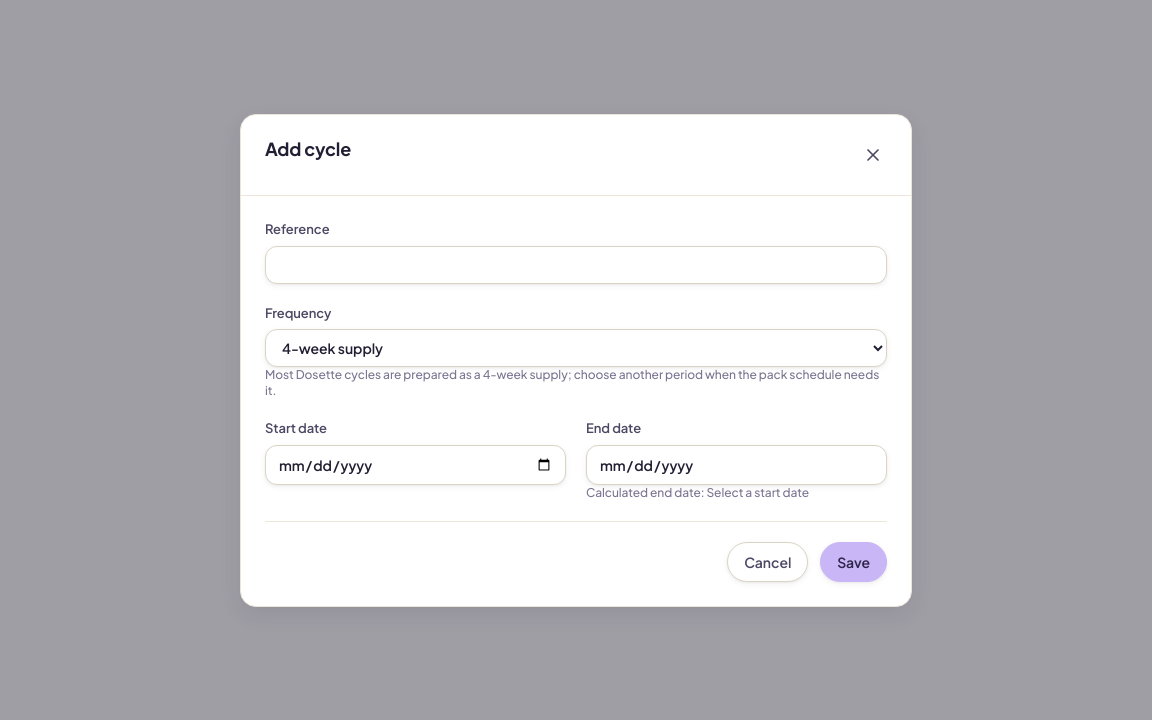
Test: DosetteCycleFormModal › renders backend field errors
The image size is (1152, 720).
Type "MDS-2026-W26" into the field labelled "Reference".
click(576, 264); type("MDS-2026-W26")  # box 265,245 -> 887,283
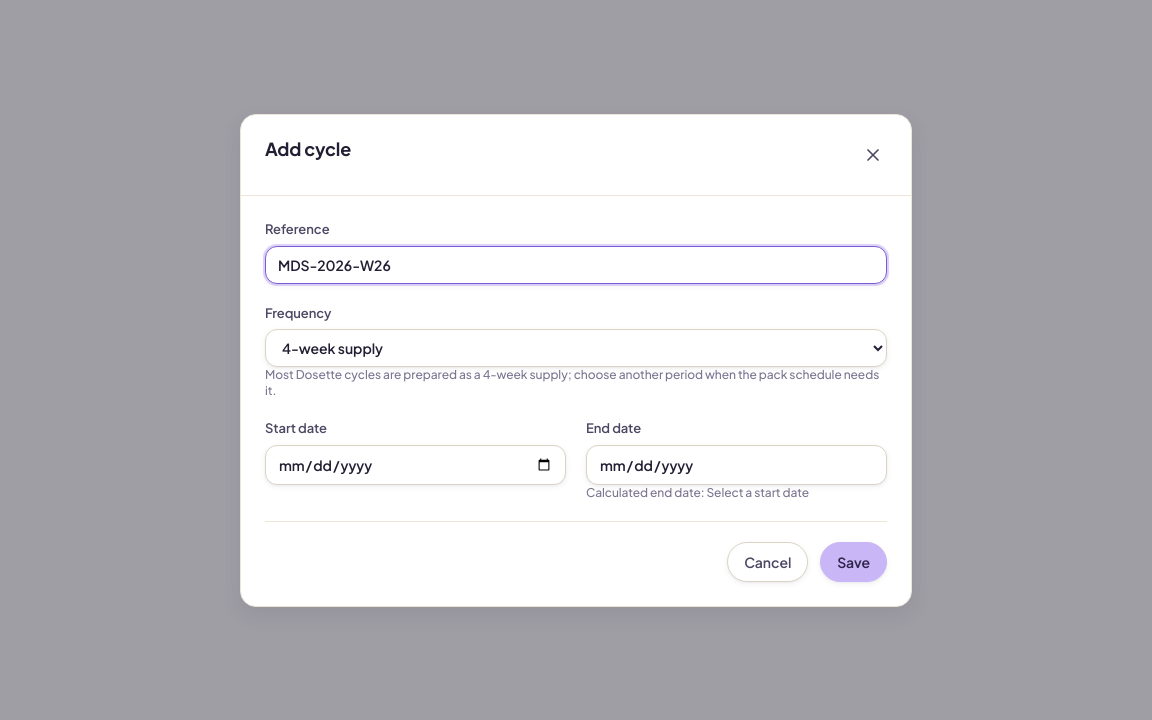
Type "2026-07-10" into the date field labelled "Start date".
click(416, 464); type("2026-07-10")  # box 265,444 -> 566,484
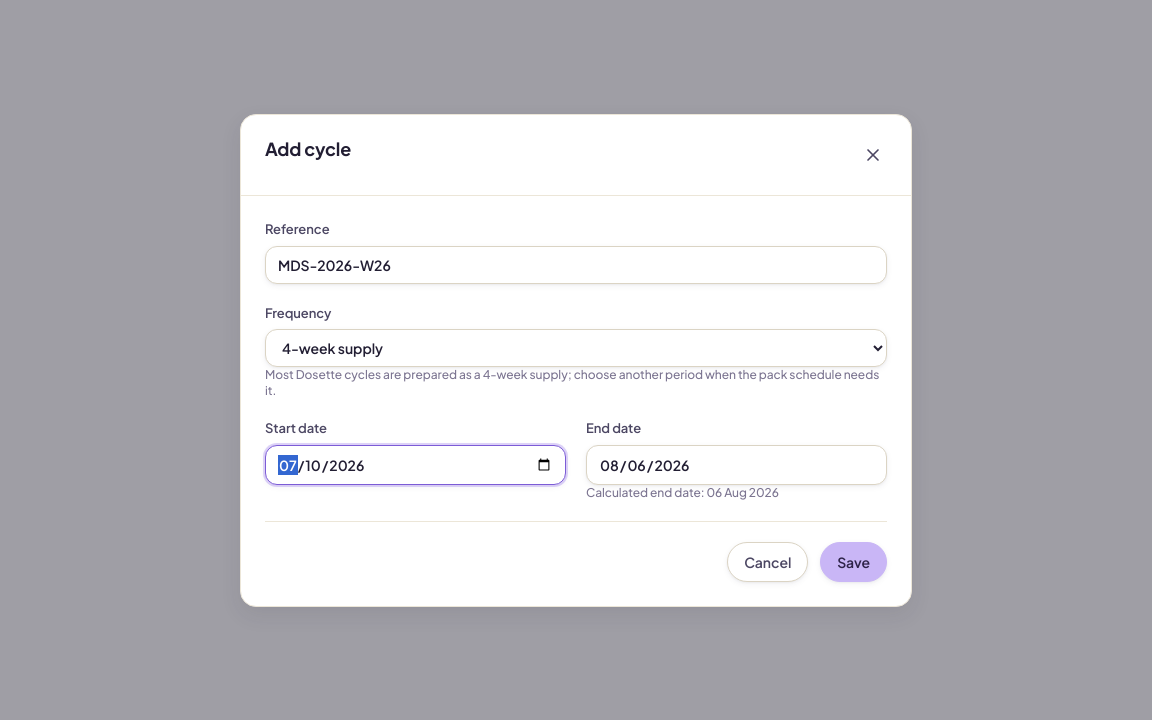
Click the button "Save".
click(854, 561)  # box 820,541 -> 887,581
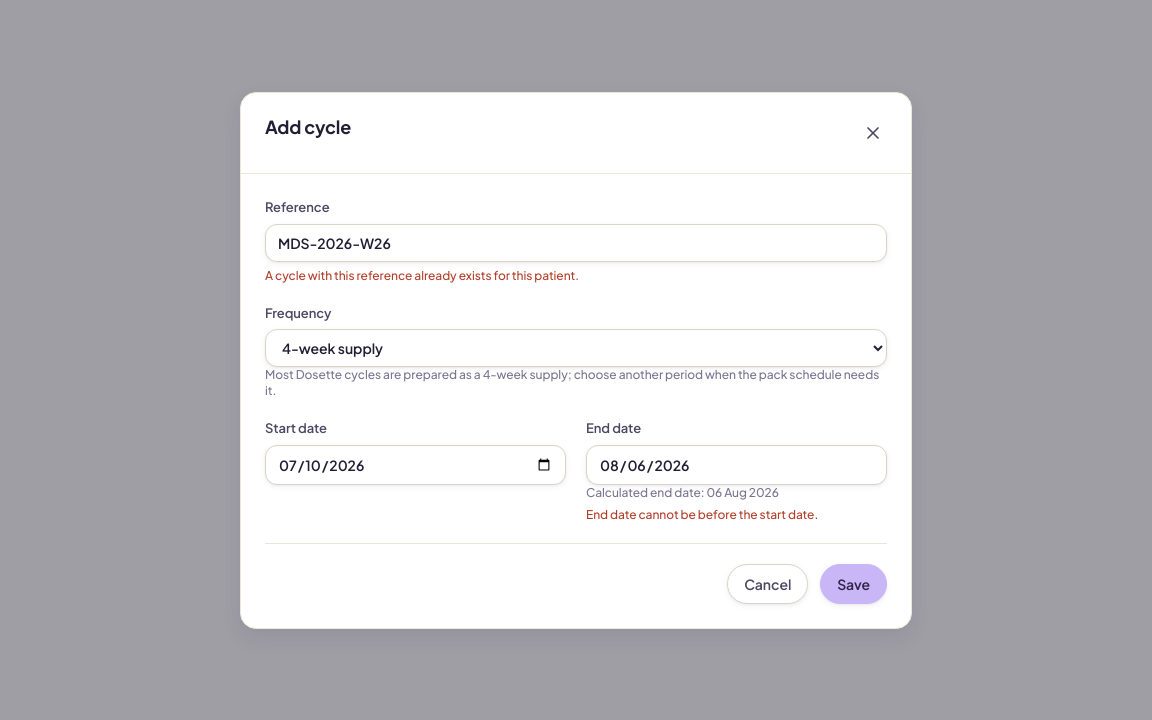
Expected: the list item "A cycle with this reference already exists for this patient." is shown, 265,267 -> 579,282
Expected: the list item "End date cannot be before the start date." is shown, 586,506 -> 818,521
